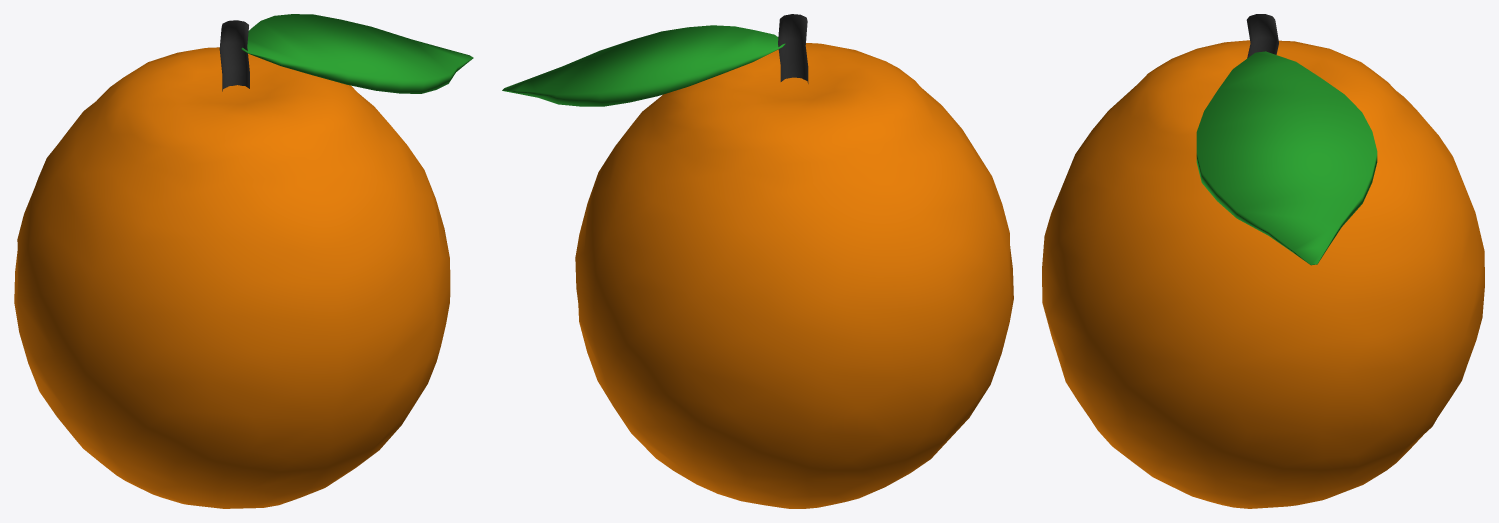
Rendered from Orange1.fbx.
3 views of the same model, side by side, from view 1: azimuth 30°, elevation 25°; view 2: azimuth 150°, elevation 25°; view 3: azimuth 270°, elevation 25° (orthographic).
Visible parts, largest first — view 1: Orange1; view 2: Orange1; view 3: Orange1.
Boxes of the visible parts, bbox=[...] form: Orange1: bbox=[14, 14, 473, 508]; Orange1: bbox=[502, 14, 1013, 508]; Orange1: bbox=[1042, 14, 1484, 508].
Bounding box in the file's own units: 1.11 × 0.9266 × 1.09.
